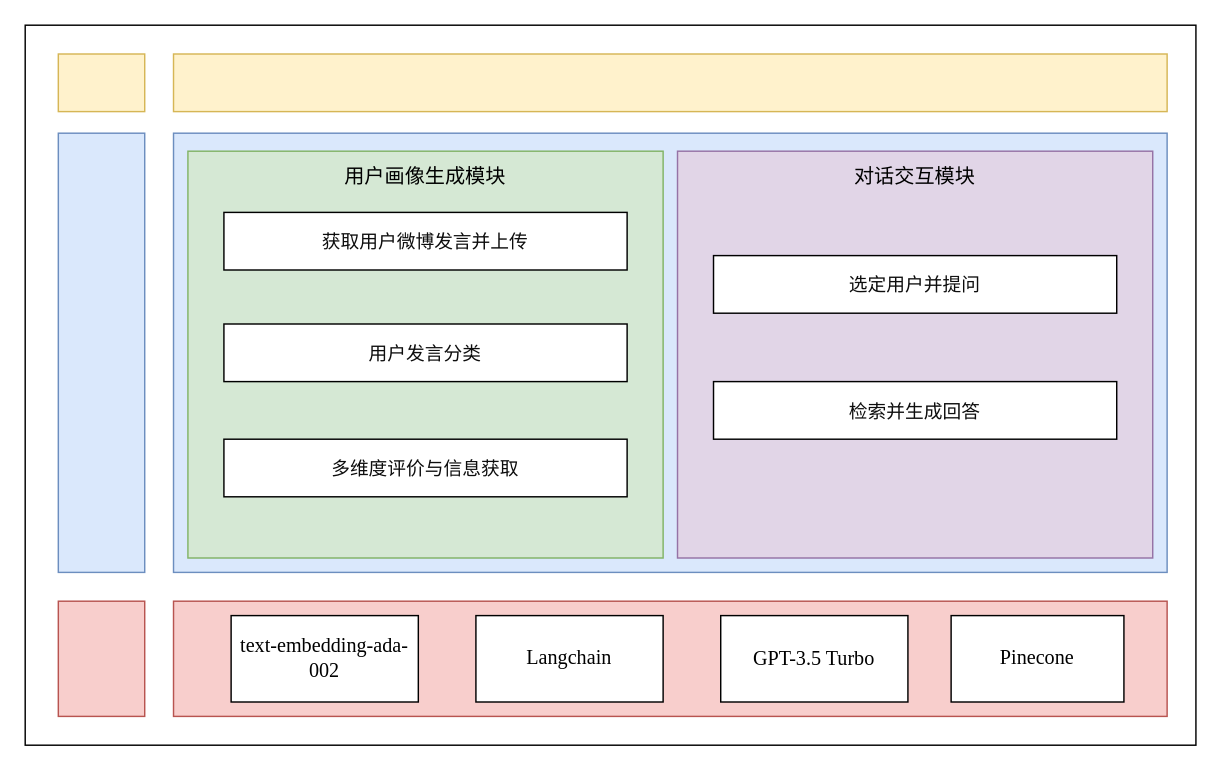
This 1221x770 diagram has some shape labels left out. The centre of each missing label's shape, as x and y in pixels:
"Streamlit" belongs at (669,82).
"UI 层" belongs at (101,82).
"主要模块" belongs at (101,352).
"服务层" belongs at (101,658).
